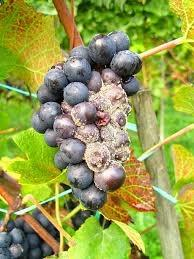Grape Rotten: (32, 30, 142, 211)
